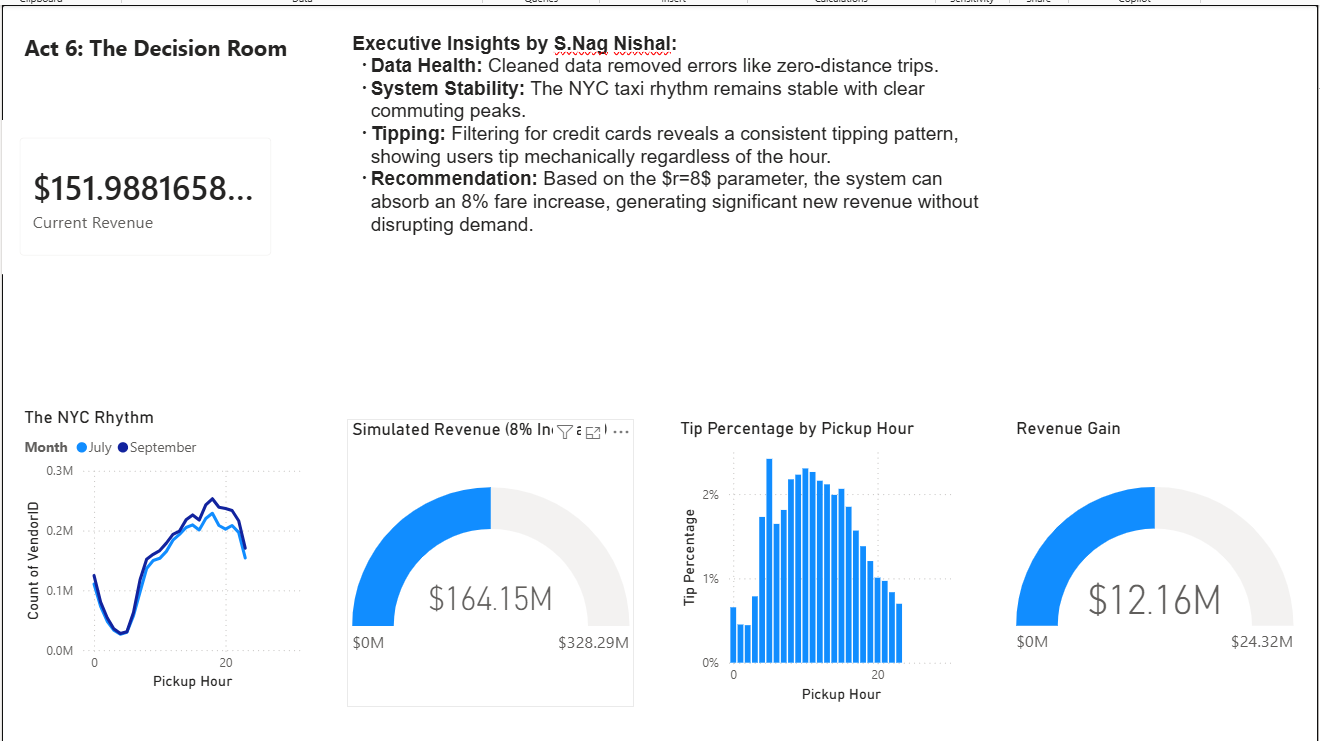

What the dashboard file says about the page in this screenshot:
{"tool":"powerbi","page":{"name":"Page 1","canvas":[1280,720],"ordinal":0},"visuals":[{"type":"lineChart","title":"The NYC Rhythm","fields":{"Category":["Investigation_Result_Nishal.Pickup Hour"],"Y":["CountNonNull(Investigation_Result_Nishal.VendorID)"],"Series":["Investigation_Result_Nishal.Month"]},"box":[16.9,390.8,279.8,279.8],"z":0},{"type":"clusteredColumnChart","fields":{"Category":["Investigation_Result_Nishal.Pickup Hour"],"Y":["Investigation_Result_Nishal.Tip Percentage"]},"box":[654.9,401.6,279.8,281],"z":1},{"type":"cardVisual","fields":{"Data":["Investigation_Result_Nishal.Current Revenue"]},"box":[0,112.2,279.8,149.5],"z":2},{"type":"gauge","fields":{"Y":["Investigation_Result_Nishal.Simulated Revenue (8% Increase)"]},"box":[335.3,402.8,279.8,279.8],"z":3},{"type":"gauge","fields":{"Y":["Investigation_Result_Nishal.Revenue Gain"]},"box":[981.7,401.6,279.8,281],"z":4},{"type":"textbox","box":[335.3,21.7,646.4,296.7],"z":5},{"type":"textbox","box":[16.9,21.7,318.4,57.9],"z":6}]}

Visuals, with their boxes on the page's 1280x720 design canvas (x1, y1, x2, y2). These are canvas units, not pixel positions in the 1320x741 screenshot, which may show the page scaled, cropped or inside an application window:
"The NYC Rhythm" lineChart: box(17, 391, 297, 671)
clusteredColumnChart - Investigation_Result_Nishal.Pickup Hour x Investigation_Result_Nishal.Tip Percentage: box(655, 402, 935, 683)
cardVisual - Investigation_Result_Nishal.Current Revenue: box(0, 112, 280, 262)
gauge - Investigation_Result_Nishal.Simulated Revenue (8% Increase): box(335, 403, 615, 683)
gauge - Investigation_Result_Nishal.Revenue Gain: box(982, 402, 1262, 683)
textbox: box(335, 22, 982, 318)
textbox: box(17, 22, 335, 80)
